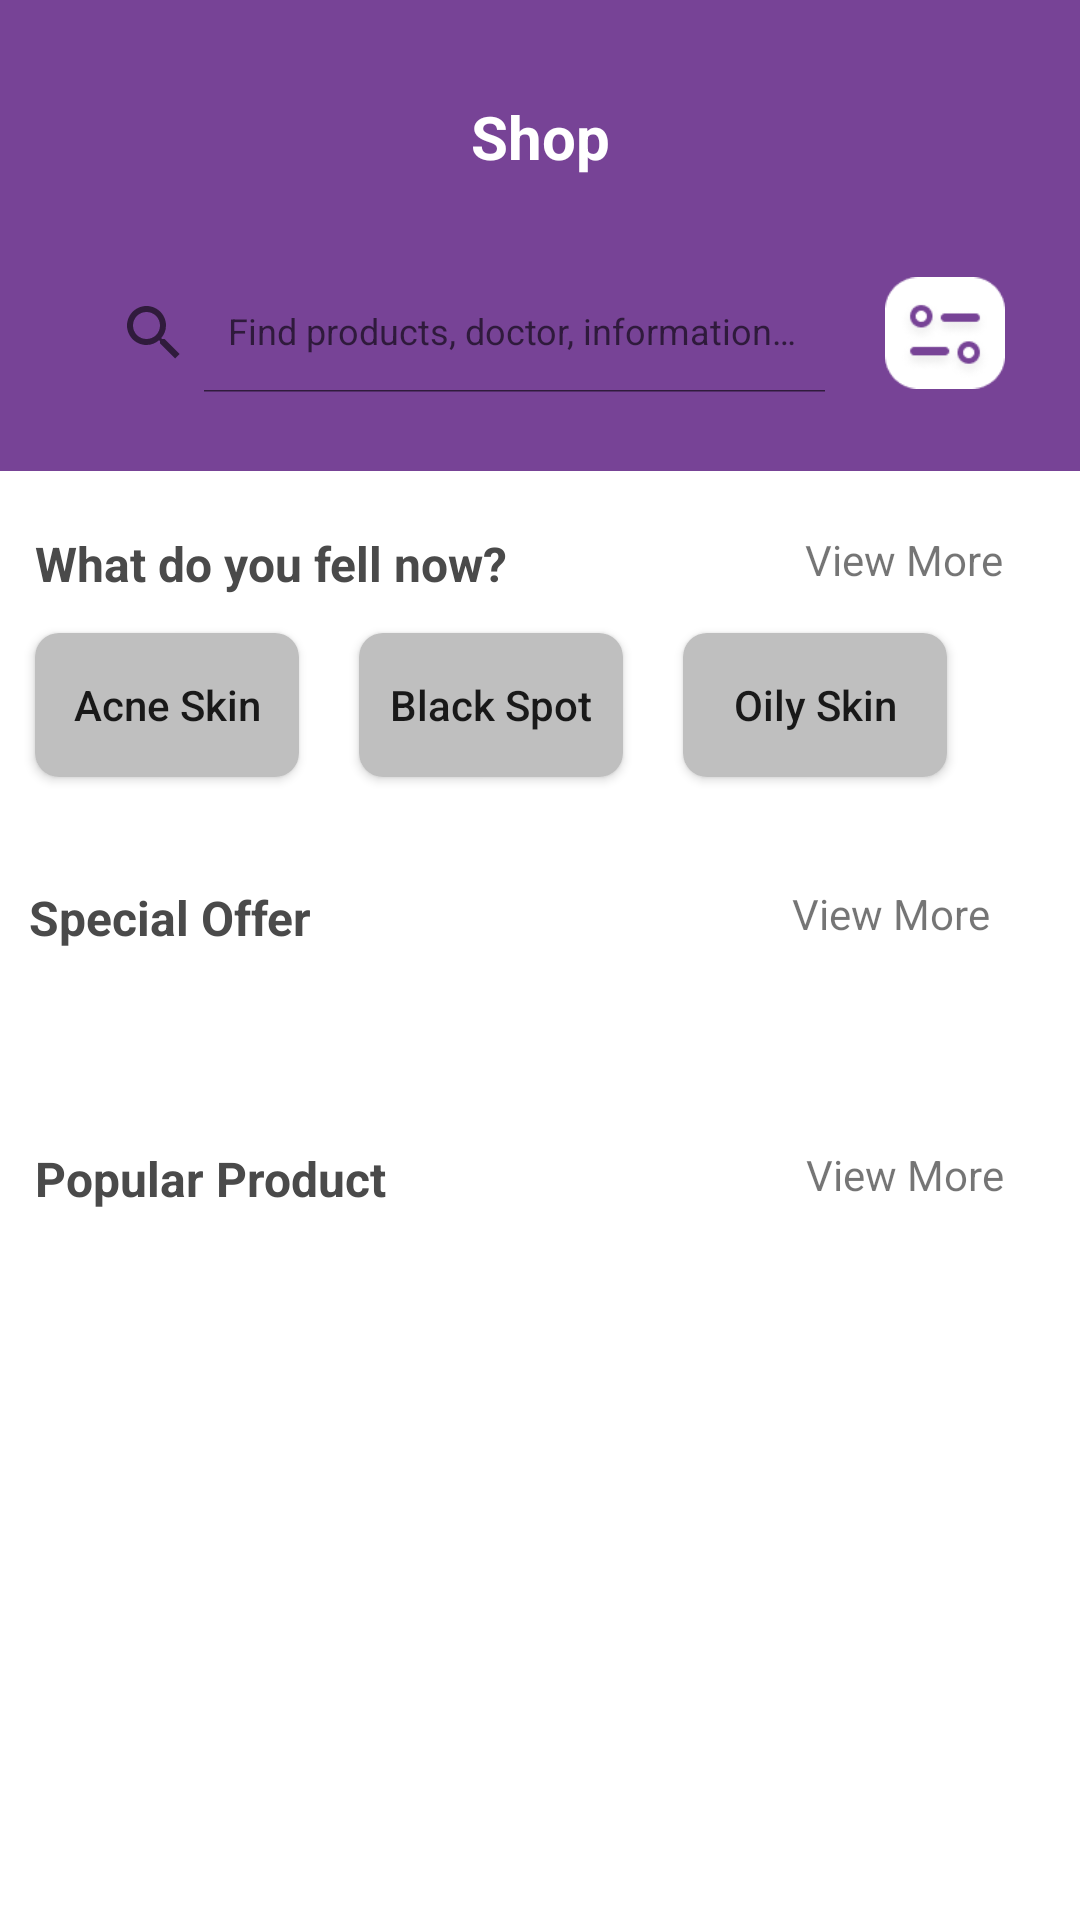

Screen size 1080px×1920px. Icon name, then its center in pixels as point (x, y):
filter: point (945, 333)
